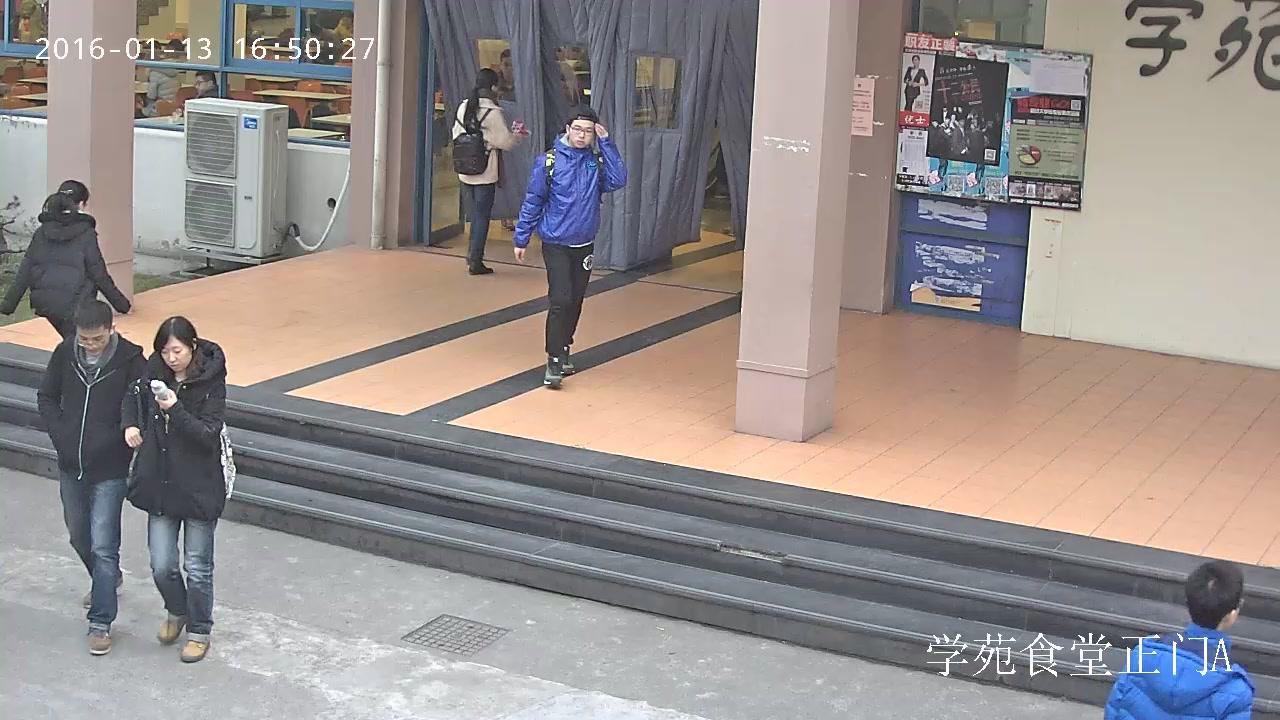person: (122, 315, 237, 662), (38, 299, 150, 653), (513, 108, 627, 387), (1105, 559, 1254, 720), (0, 180, 136, 338), (451, 67, 514, 275), (140, 54, 177, 118), (902, 54, 928, 113)
